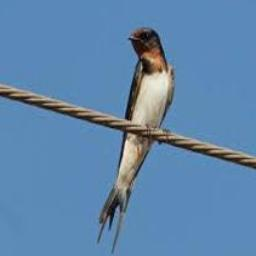Swallow: (97, 27, 175, 253)
